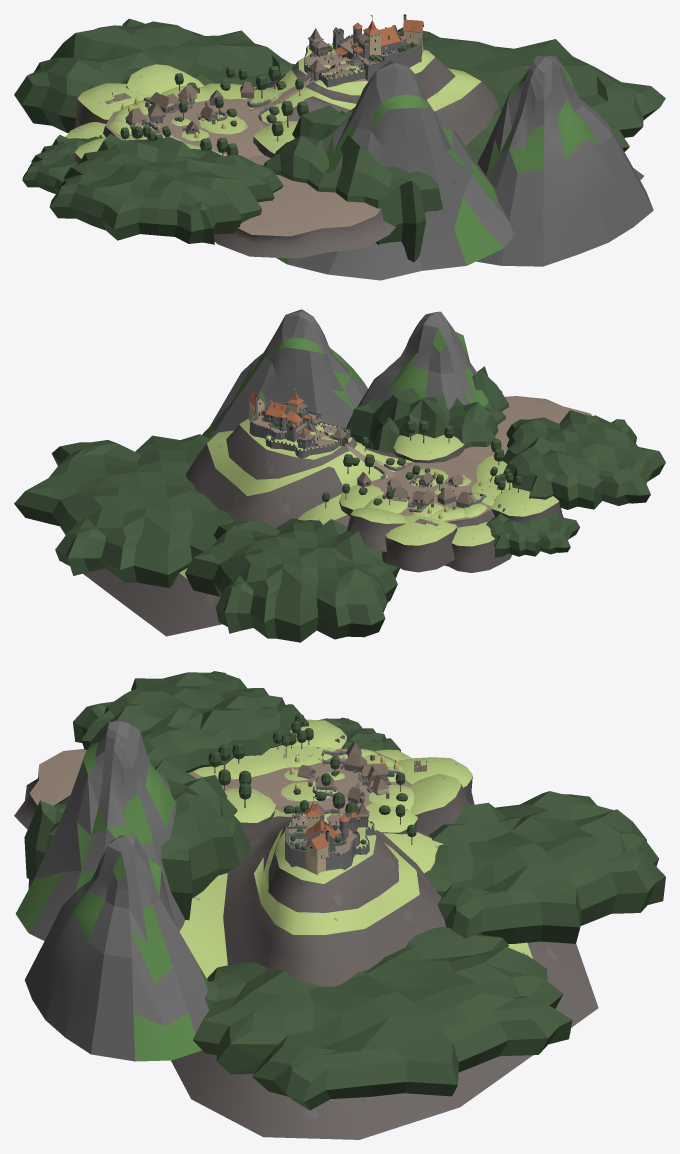
The model's file is medieval_castle_with_village.glb.
3 views of the same model, one above another, from view 1: azimuth 30°, elevation 25°; view 2: azimuth 150°, elevation 25°; view 3: azimuth 270°, elevation 25° (orthographic). The views are drawn at different scales.
Visible parts, largest first — view 1: Object_16, Object_19, Object_18, Object_12, Object_13, Object_21, Object_17, Object_29, Object_25, Object_28, Object_30, Object_9 (+2 smaller); view 2: Object_16, Object_12, Object_19, Object_18, Object_13, Object_21, Object_29, Object_17, Object_25, Object_28, Object_9, Object_30; view 3: Object_16, Object_12, Object_19, Object_18, Object_21, Object_13, Object_17, Object_29, Object_25, Object_28, Object_8, Object_30 (+1 smaller).
Boxes of the visible parts, <box> form: Object_16: <box>14,18,665,261</box>; Object_19: <box>99,25,653,280</box>; Object_18: <box>66,44,481,158</box>; Object_12: <box>66,53,643,258</box>; Object_13: <box>105,38,406,236</box>; Object_21: <box>198,36,599,265</box>; Object_17: <box>120,37,414,155</box>; Object_29: <box>150,15,421,112</box>; Object_25: <box>125,28,329,132</box>; Object_28: <box>126,40,394,135</box>; Object_30: <box>333,19,422,55</box>; Object_9: <box>105,15,423,156</box>; Object_16: <box>14,366,665,642</box>; Object_12: <box>83,424,563,636</box>; Object_19: <box>210,309,505,511</box>; Object_18: <box>179,418,558,578</box>; Object_13: <box>253,396,592,522</box>; Object_21: <box>202,328,488,484</box>; Object_29: <box>249,396,433,506</box>; Object_17: <box>263,401,522,501</box>; Object_25: <box>297,428,473,507</box>; Object_28: <box>267,409,486,512</box>; Object_9: <box>249,398,518,526</box>; Object_30: <box>248,392,311,433</box>; Object_16: <box>24,671,665,1110</box>; Object_12: <box>14,739,598,1139</box>; Object_19: <box>25,718,390,1061</box>; Object_18: <box>179,719,532,978</box>; Object_21: <box>15,742,368,1061</box>; Object_13: <box>29,748,411,871</box>; Object_17: <box>208,713,416,849</box>; Object_29: <box>285,771,387,869</box>; Object_25: <box>297,741,389,819</box>; Object_28: <box>289,750,400,847</box>; Object_8: <box>306,770,388,875</box>; Object_30: <box>305,801,356,850</box>.
Size of the model in its own units: 301 by 107 by 246.
32 materials, 11 textured.
